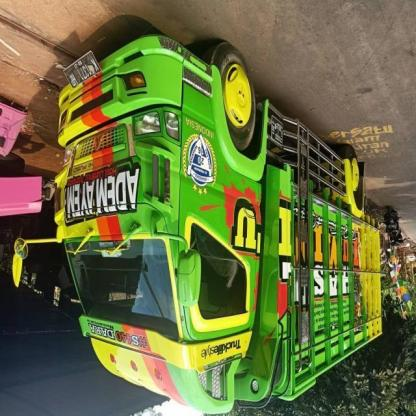truck: (13, 33, 383, 416)
